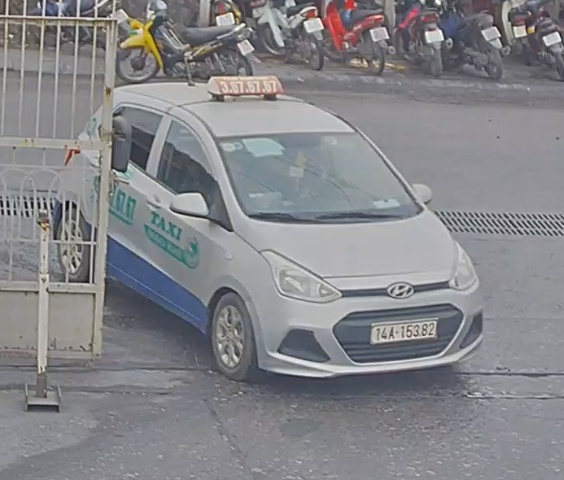vehicle plate: (367, 315, 446, 346)
